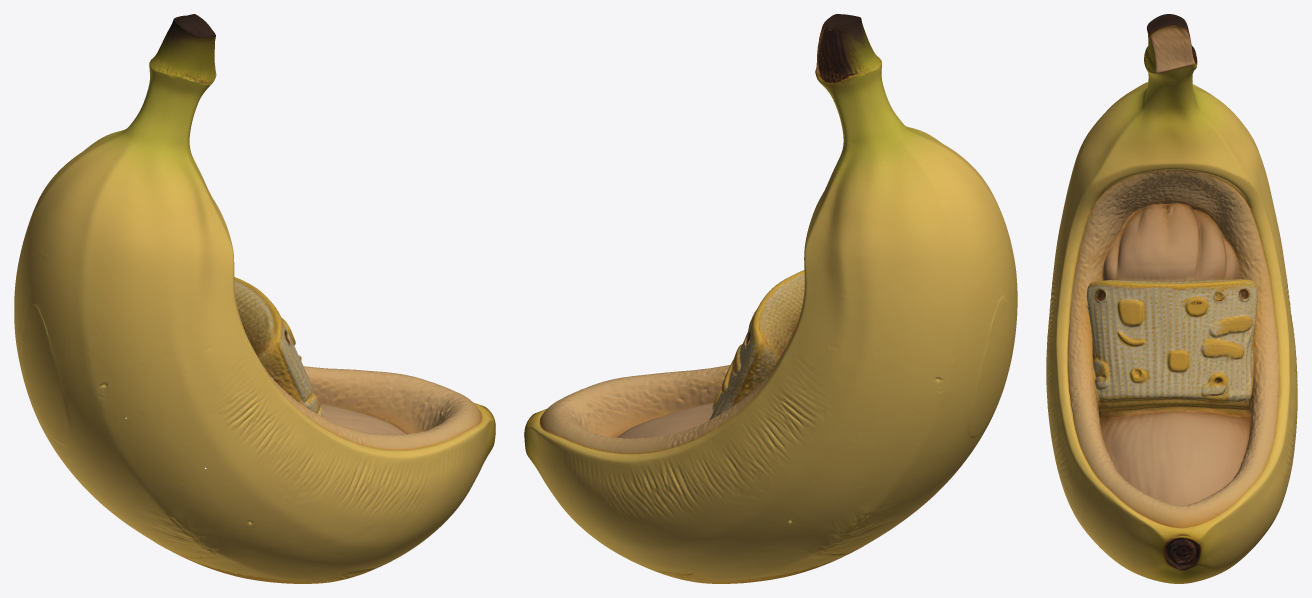
Rendered from raw.glb.
The picture shows the model from 3 angles, left to right: view 1: azimuth 30°, elevation 25°; view 2: azimuth 150°, elevation 25°; view 3: azimuth 270°, elevation 25°; orthographic projection. The views are drawn at different scales.
Visible parts, largest first — view 1: tripo_node_4920f889-0919-4cbe-b573-e8377980c02c; view 2: tripo_node_4920f889-0919-4cbe-b573-e8377980c02c; view 3: tripo_node_4920f889-0919-4cbe-b573-e8377980c02c.
Part boxes in pixels (x1,y1,x2,y2): tripo_node_4920f889-0919-4cbe-b573-e8377980c02c: (14, 14, 495, 583); tripo_node_4920f889-0919-4cbe-b573-e8377980c02c: (524, 14, 1017, 583); tripo_node_4920f889-0919-4cbe-b573-e8377980c02c: (1046, 14, 1297, 583).
Bounding box in the file's own units: 0.8429 × 0.9996 × 0.4718.
1 material, 1 textured.
